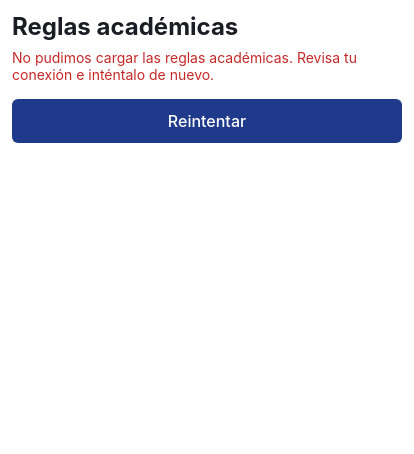
Test: si falla la carga permite reintentar
Expected: the text "No pudimos cargar las reglas académicas" is shown, [12,49,361,83]
Click the button "Reintentar". click: (207, 121)
box: [12,99,402,143]
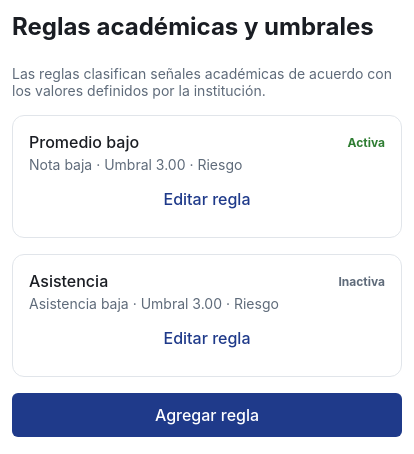
Expected: the text "Promedio bajo" is shown, [29,132,139,152]
